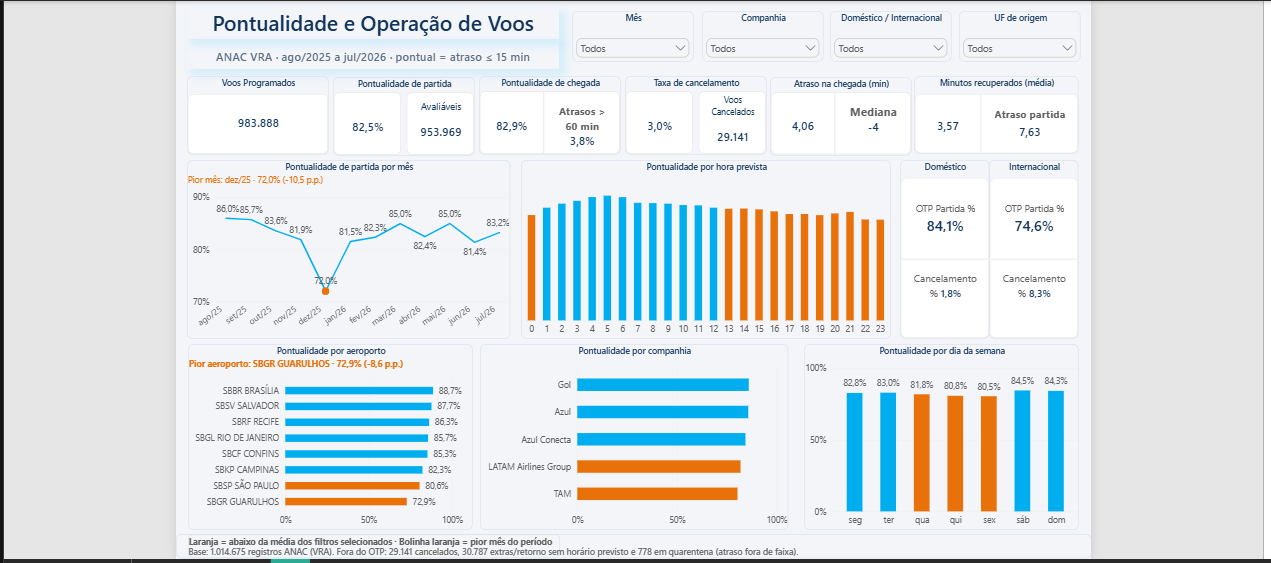

This screenshot's page, from the dashboard's own definition file:
{"tool":"powerbi","page":{"name":"Visão Operacional","canvas":[1280,780],"ordinal":0},"visuals":[{"type":"textbox","title":"Pontualidade e Operação de Voos","box":[16,10,520.5,44],"z":0},{"type":"cardVisual","title":"Voos Programados","fields":{"Data":["fato_voos.Voos Programados Texto"]},"box":[16,105,198.1,110],"z":1000},{"type":"cardVisual","title":"Minutos recuperados (média)","fields":{"Data":["fato_voos.Minutos Recuperados Médio"]},"box":[1031.9,105,230,109],"z":2000},{"type":"cardVisual","title":"Pontualidade de partida","fields":{"Data":["fato_voos.OTP Partida %","fato_voos.Voos Avaliáveis Texto"]},"box":[219.8,105.5,198,110],"z":3000},{"type":"cardVisual","title":"Pontualidade de chegada","fields":{"Data":["fato_voos.OTP Chegada %"]},"box":[424,105,198,110],"z":4000},{"type":"cardVisual","title":"Taxa de cancelamento","fields":{"Data":["fato_voos.Cancelamento %","fato_voos.Voos Cancelados Texto"]},"box":[628,105,198,110],"z":5000},{"type":"slicer","title":"Doméstico / Internacional","fields":{"Values":["fato_voos.escopo_voo"]},"box":[914.3,14.6,169.9,71.2],"z":6000},{"type":"slicer","title":"UF de origem","fields":{"Values":["dim_aeroporto_origem.origem_uf_aeroporto"]},"box":[1093.9,14.6,169.9,71.2],"z":7000},{"type":"slicer","title":"Companhia","fields":{"Values":["fato_voos.nome_companhia"]},"box":[734.7,14.6,169.9,71.2],"z":8000},{"type":"slicer","title":"Mês","fields":{"Values":["dim_calendario.MesAno"]},"box":[553.4,14.6,169.9,71.2],"z":9000},{"type":"textbox","title":"ANAC VRA · ago/2025 a jul/2026 · pontual = atraso ≤ 15 min","box":[16,54,520.5,40],"z":10000},{"type":"lineChart","title":"Pontualidade de partida por mês","fields":{"Category":["dim_calendario.MesAno"],"Y":["fato_voos.OTP Partida %","fato_voos.OTP Partida Pior Mês"]},"box":[16,222.3,451.5,250.2],"z":11000},{"type":"columnChart","title":"Pontualidade por hora prevista","fields":{"Category":["fato_voos.hora_partida_prevista"],"Y":["fato_voos.OTP Partida %"]},"box":[482.3,222.3,517.2,250.2],"z":12000},{"type":"clusteredBarChart","title":"Pontualidade por companhia","fields":{"Category":["fato_voos.Companhia"],"Y":["fato_voos.OTP Partida %"]},"box":[424.9,480,430.5,260],"z":13000},{"type":"barChart","title":"Pontualidade por aeroporto","fields":{"Category":["dim_aeroporto_origem.Aeroporto"],"Y":["fato_voos.OTP Partida %"]},"box":[16.8,479.5,398.4,260],"z":14000},{"type":"cardVisual","title":"Doméstico","fields":{"Data":["fato_voos.OTP Partida %"]},"box":[1012,222.3,125,250],"z":15000},{"type":"cardVisual","title":"Internacional","fields":{"Data":["fato_voos.OTP Partida %"]},"box":[1136.5,222.3,125,250],"z":16000},{"type":"columnChart","title":"Pontualidade por dia da semana","fields":{"Category":["dim_calendario.DiaSemana"],"Y":["fato_voos.OTP Partida %"]},"box":[877.8,479.5,384.4,260],"z":17000},{"type":"cardVisual","title":"Atraso na chegada (min)","fields":{"Data":["fato_voos.Atraso Médio Chegada (min)"]},"box":[829.9,105.5,198.1,109.9],"z":18000},{"type":"textbox","box":[16.8,745.1,520,33.5],"z":19000},{"type":"cardVisual","fields":{"Data":["fato_voos.Nota Rodapé"]},"box":[0,745.1,1280.3,34.1],"z":20000}]}

Visuals, with their boxes on the page's 1280x780 design canvas (x1, y1, x2, y2). These are canvas units, not pixel positions in the 1271x563 screenshot, which may show the page scaled, cropped or inside an application window:
"Pontualidade e Operação de Voos" textbox: 16/10/536/54
"Voos Programados" cardVisual: 16/105/214/215
"Minutos recuperados (média)" cardVisual: 1032/105/1262/214
"Pontualidade de partida" cardVisual: 220/106/418/216
"Pontualidade de chegada" cardVisual: 424/105/622/215
"Taxa de cancelamento" cardVisual: 628/105/826/215
"Doméstico / Internacional" slicer: 914/15/1084/86
"UF de origem" slicer: 1094/15/1264/86
"Companhia" slicer: 735/15/905/86
"Mês" slicer: 553/15/723/86
"ANAC VRA · ago/2025 a jul/2026 · pontual = atraso ≤ 15 min" textbox: 16/54/536/94
"Pontualidade de partida por mês" lineChart: 16/222/468/472
"Pontualidade por hora prevista" columnChart: 482/222/1000/472
"Pontualidade por companhia" clusteredBarChart: 425/480/855/740
"Pontualidade por aeroporto" barChart: 17/480/415/740
"Doméstico" cardVisual: 1012/222/1137/472
"Internacional" cardVisual: 1136/222/1262/472
"Pontualidade por dia da semana" columnChart: 878/480/1262/740
"Atraso na chegada (min)" cardVisual: 830/106/1028/215
textbox: 17/745/537/779
cardVisual - fato_voos.Nota Rodapé: 0/745/1280/779
